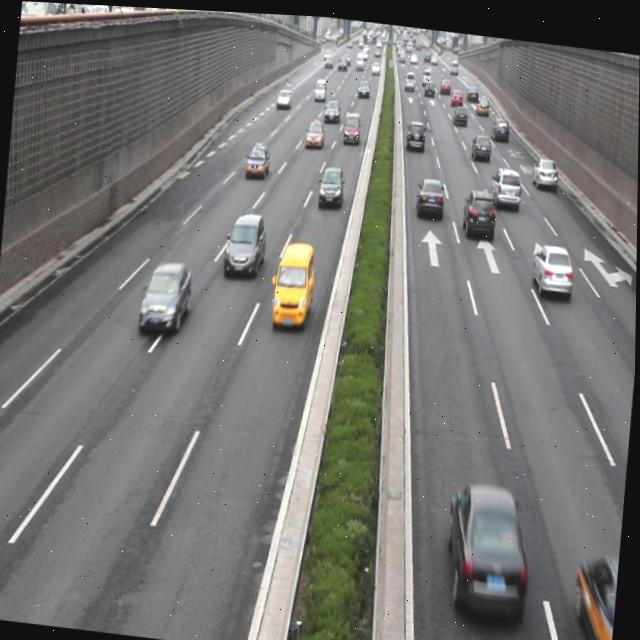car: (443, 474, 534, 614), (570, 542, 621, 640), (139, 256, 192, 335), (224, 207, 267, 276), (529, 232, 575, 293), (461, 181, 499, 238), (489, 159, 522, 203), (415, 171, 446, 216), (317, 158, 345, 203), (530, 148, 559, 185), (245, 139, 271, 177), (304, 113, 325, 146), (471, 127, 493, 157)
truck: (271, 238, 317, 325)
